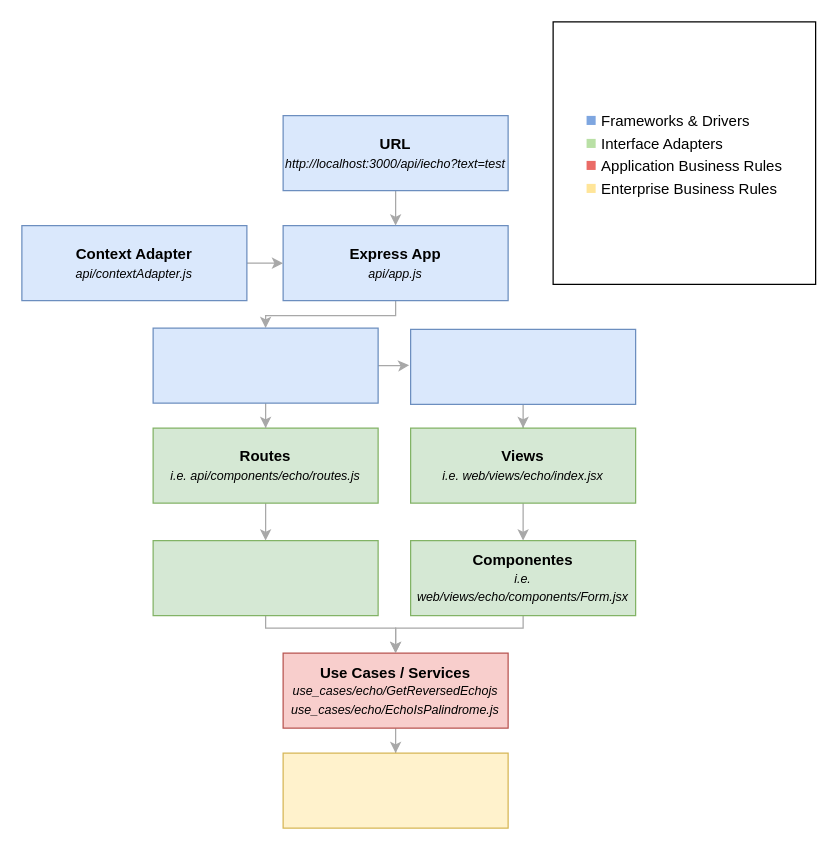
Some shapes in this 838 by 850 pixel diagram are drawn without their labels. The shapes that lost their labels are listed below. From the top down, each one's centre as x and y in pixels, then its label:
point 265,365: Server bin/www
point 522,366: React App web/app.js
point 265,577: Controllers components/echo/echoTextController.js
point 395,790: Domain Model Objects i.e. api/components/echo/Echo.js i.e. web/
